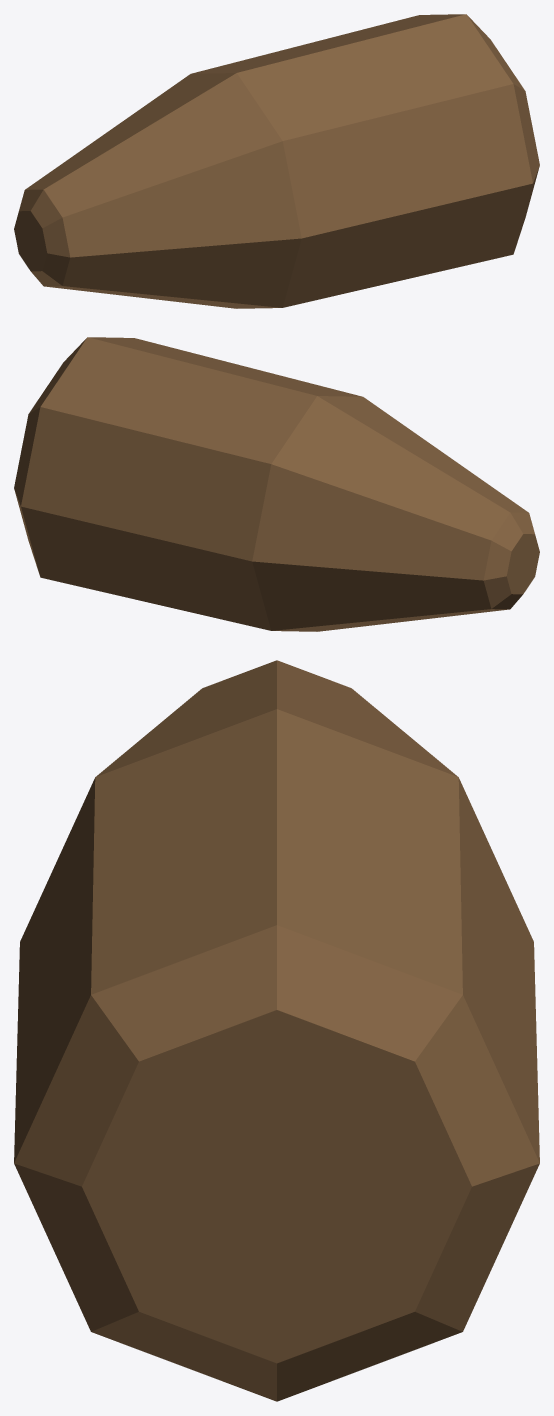
Rendered from bullet.fbx.
The picture shows the model from 3 angles, top to bottom: view 1: azimuth 30°, elevation 25°; view 2: azimuth 150°, elevation 25°; view 3: azimuth 270°, elevation 25°; orthographic projection. The views are drawn at different scales.
Parts seen in each view (by area): view 1: Cylinder; view 2: Cylinder; view 3: Cylinder.
Part boxes in pixels (box(x1,y1,x2,y2)): Cylinder: box(14, 14, 539, 308); Cylinder: box(14, 337, 539, 631); Cylinder: box(14, 660, 539, 1401).
Size of the model in its own units: 116 by 57.96 by 57.96.
